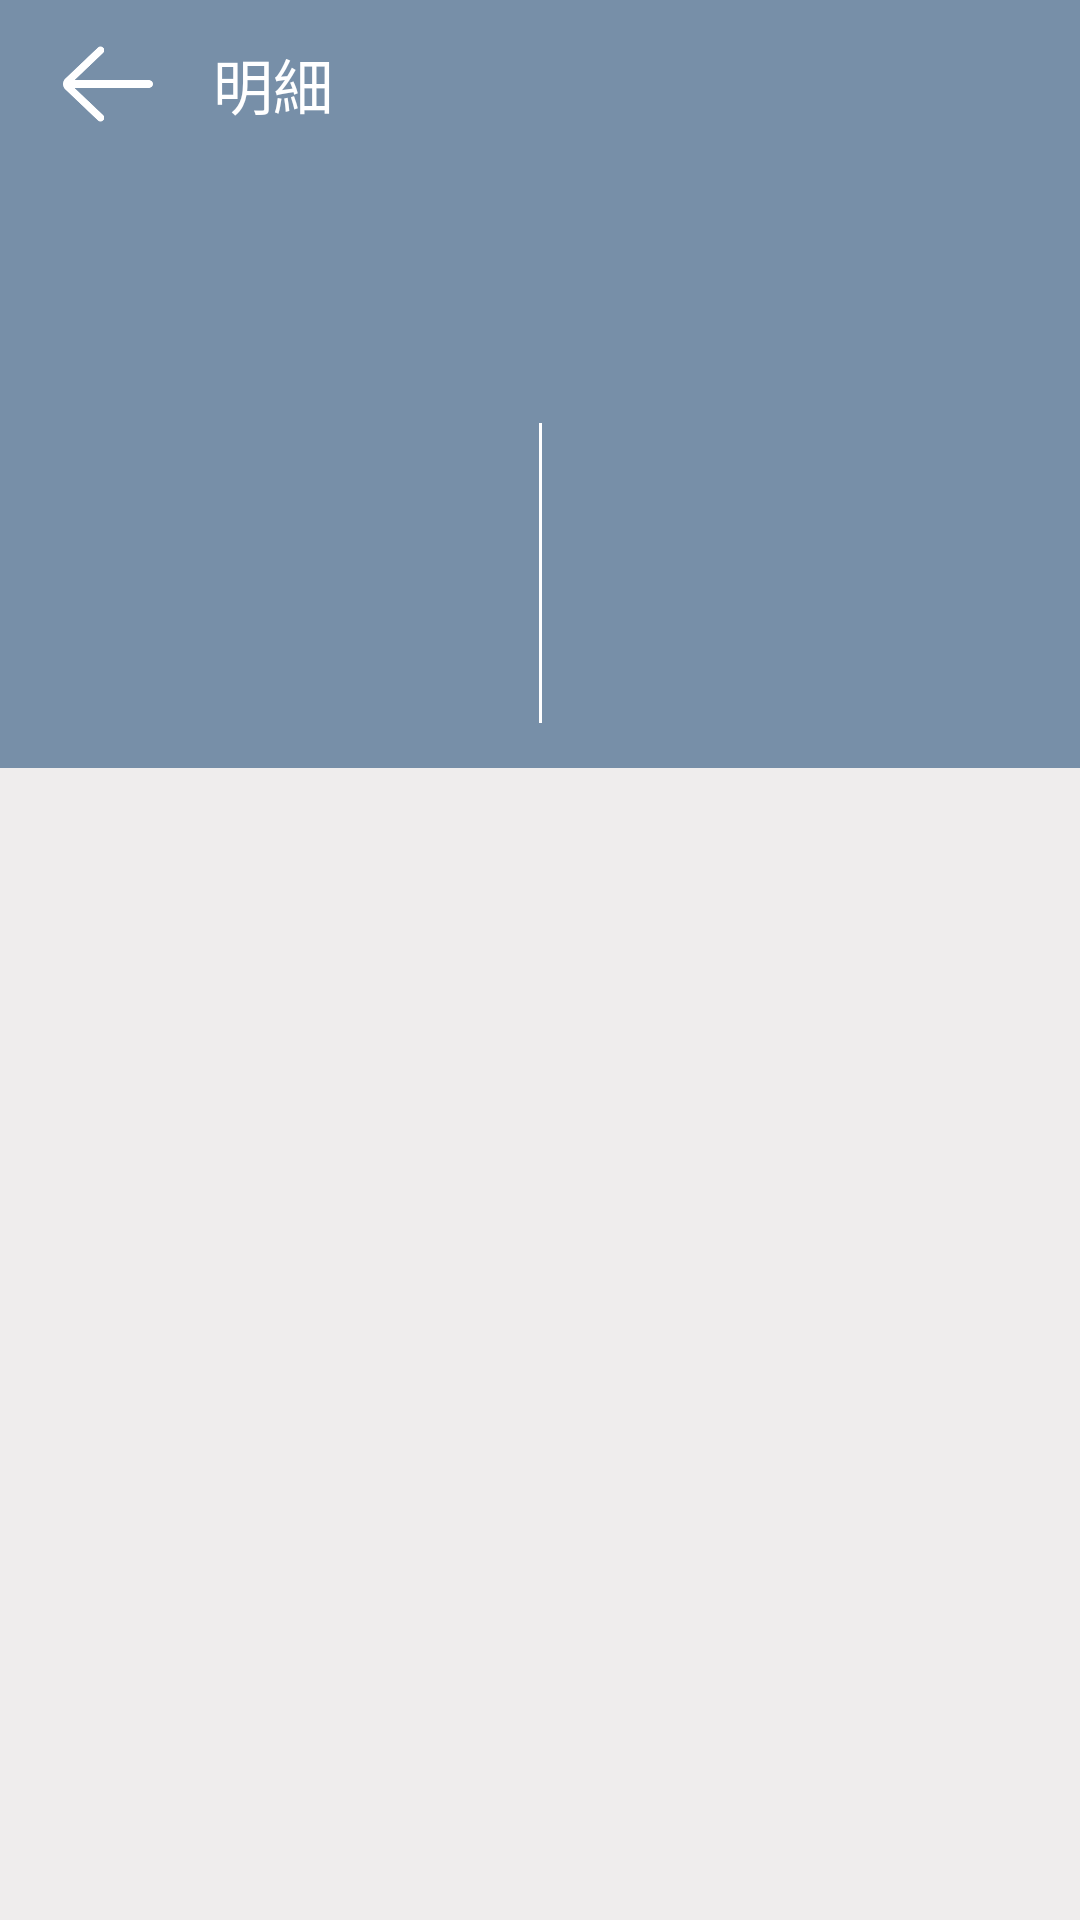

Icons on this 1080px x 1920px Android screen, each with the point to tap as (x,y):
left arrow: (108,84)
